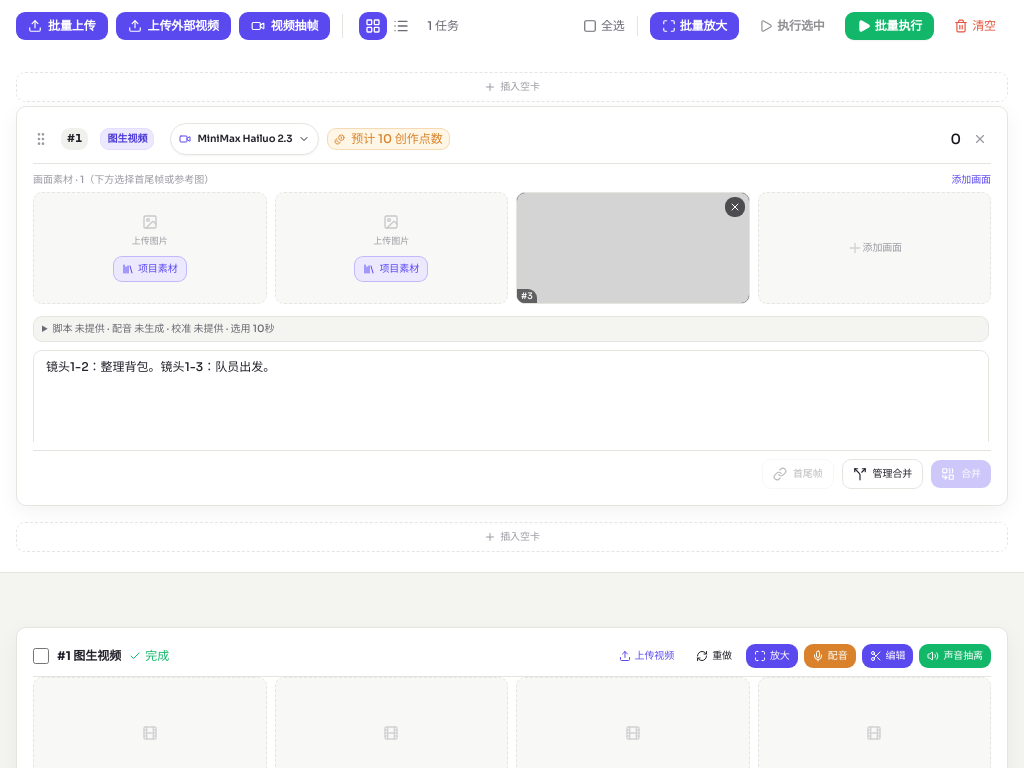
Test case: VideoPage Hailuo frame submission › still blocks genuinely missing selected frames: merged, missing first=true
Click the button "重做": click(714, 656) [688,644,740,668]
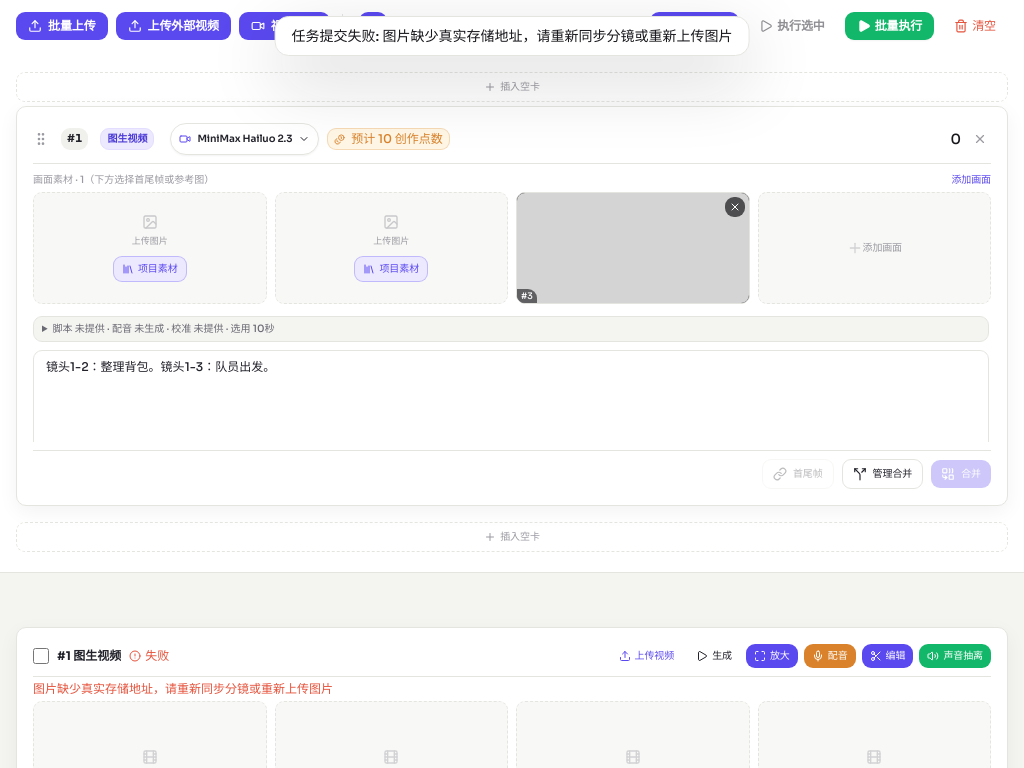
Now the text "任务提交失败: 图片缺少真实存储地址，请重新同步分镜或重新上传图片" is shown, box [275,16,749,56]
